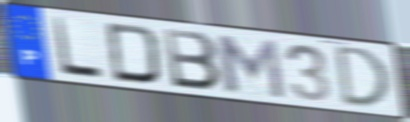3: (284, 42, 330, 103)
B: (160, 26, 224, 93)
D: (104, 21, 164, 87), (334, 43, 393, 109)
L: (50, 15, 106, 81)
M: (212, 32, 289, 101)
